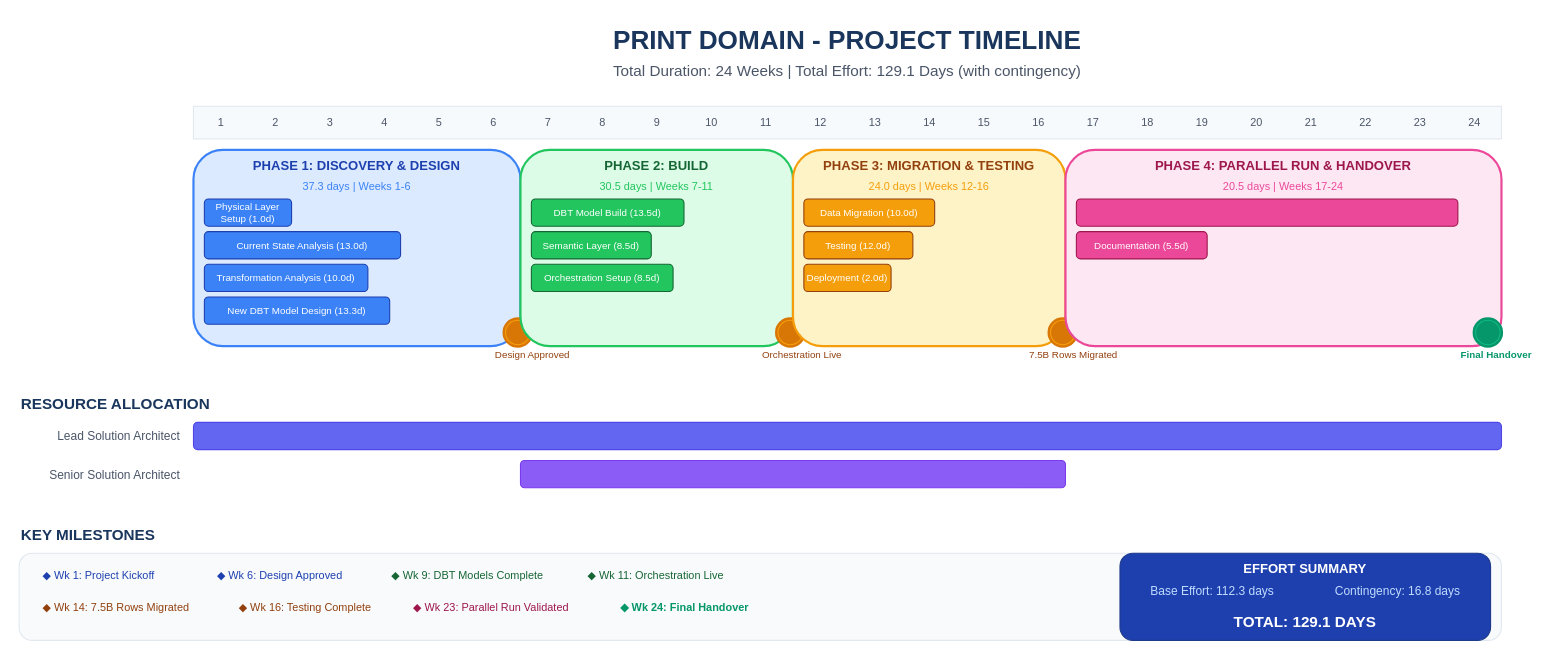
Image size: 1559x659. Some labels were removed from this diagram. Each missing label, with the box of its shape:
Parallel Run Support (15.0d): (1075, 198, 1458, 226)
Weeks 1-24 (Full Engagement): (192, 421, 1501, 450)
Weeks 7-16 (Build + Migration): (519, 459, 1065, 488)
